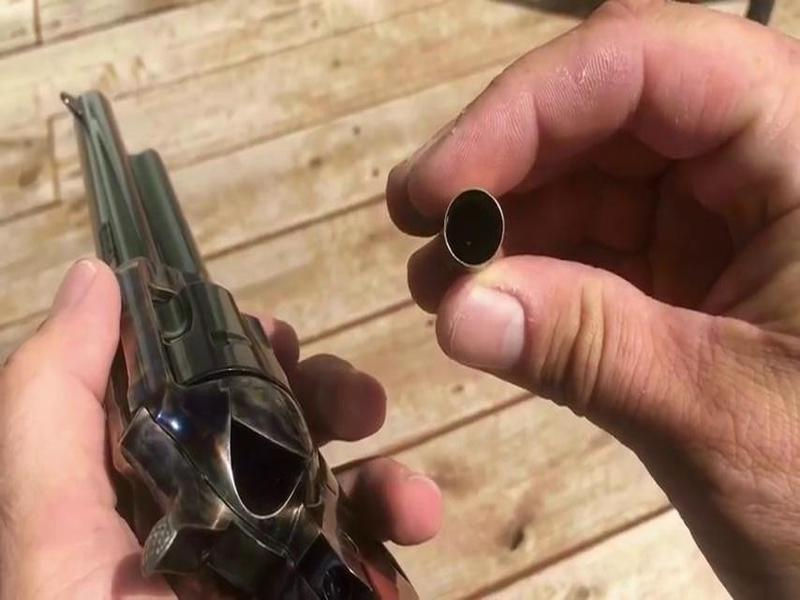Revolver: (52, 75, 361, 600)
